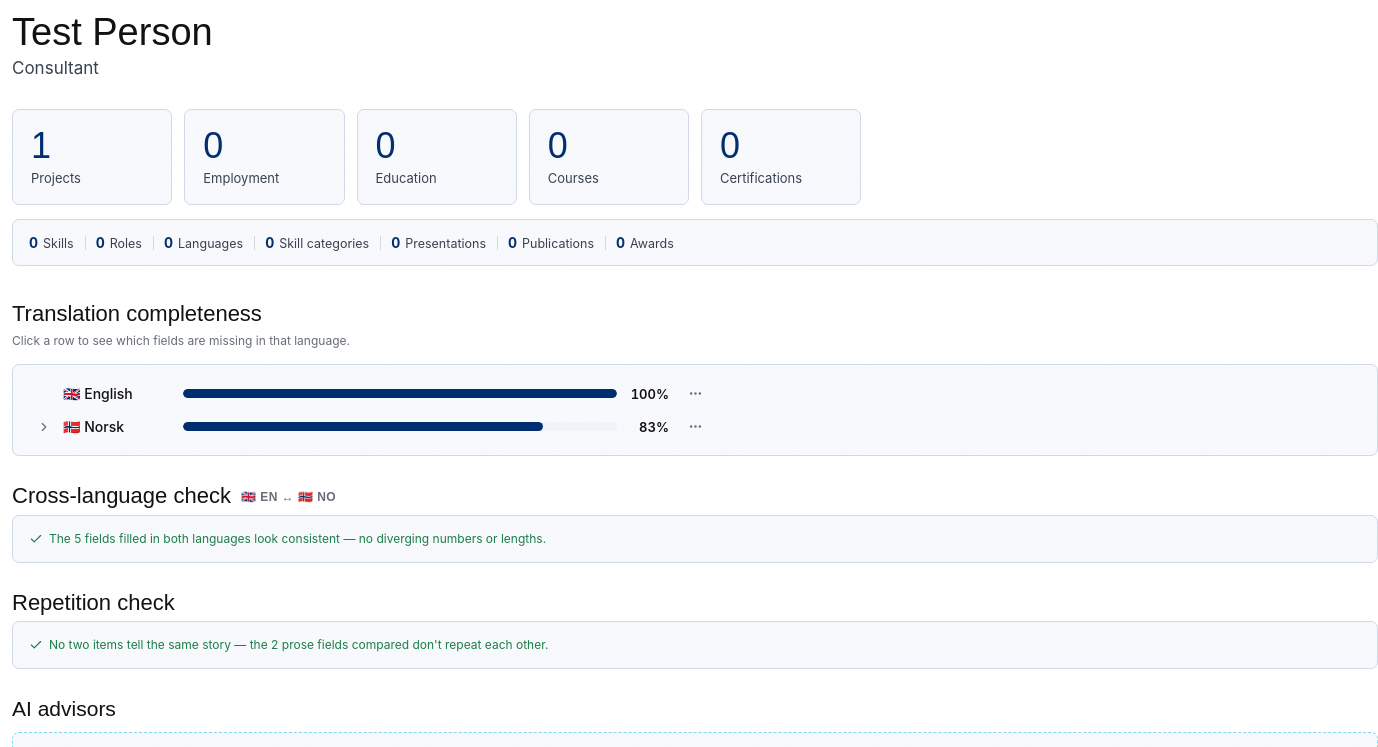
Scenario: <Overview> translation completeness drill-down › expands the missing-field list when the locale row is clicked
Click the button "🇳🇴 Norsk 83%" at (353, 427), box x1=29 y1=412 x2=677 y2=442
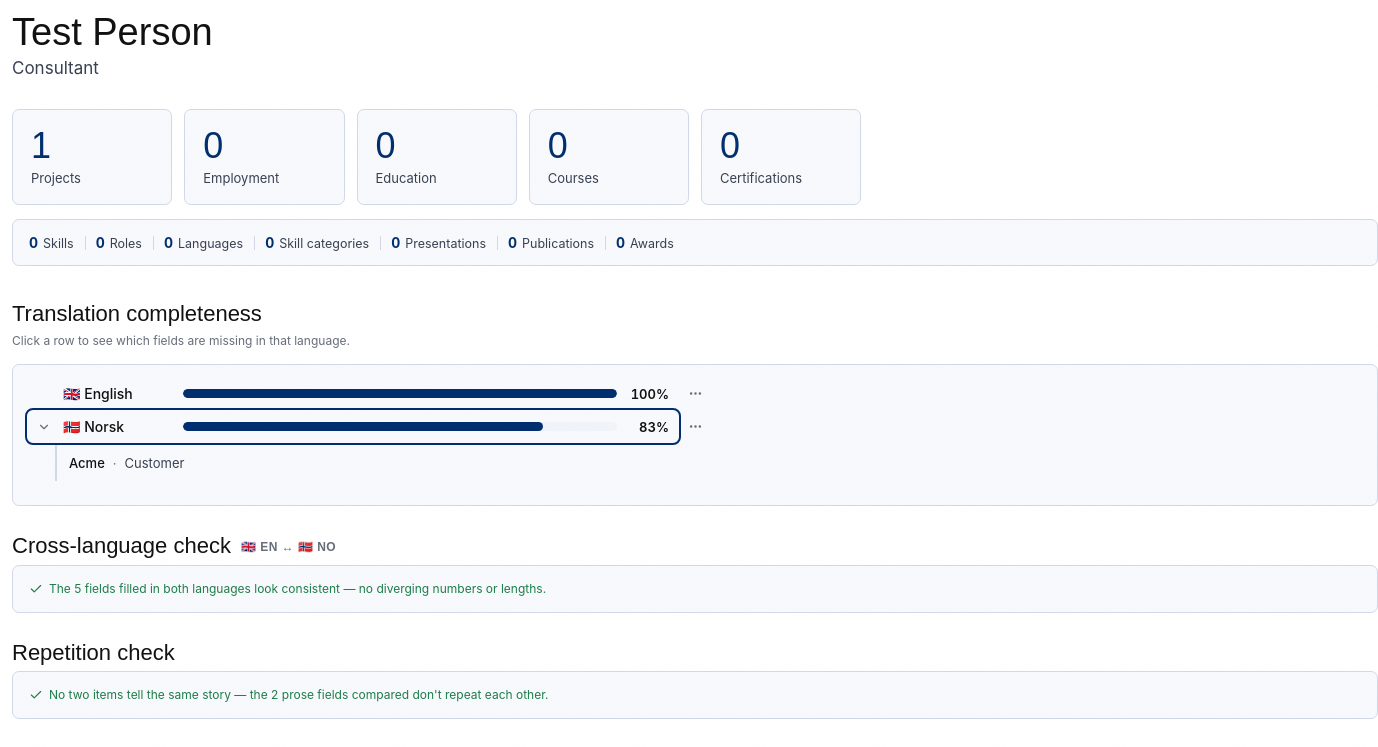
expect the button "🇳🇴 Norsk 83%" is expanded: met, box x1=29 y1=412 x2=677 y2=442
expect the list named "Untranslated fields in Norsk" is shown: met, box x1=55 y1=446 x2=709 y2=482
expect the text "Acme" is shown: met, box x1=69 y1=456 x2=105 y2=472
